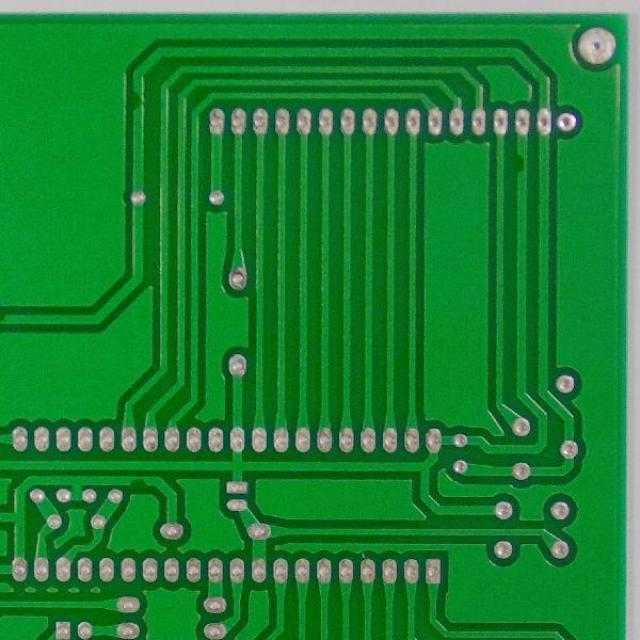MouseBite: (129, 85, 146, 116), (514, 148, 529, 179), (126, 472, 151, 490), (0, 308, 14, 329)
